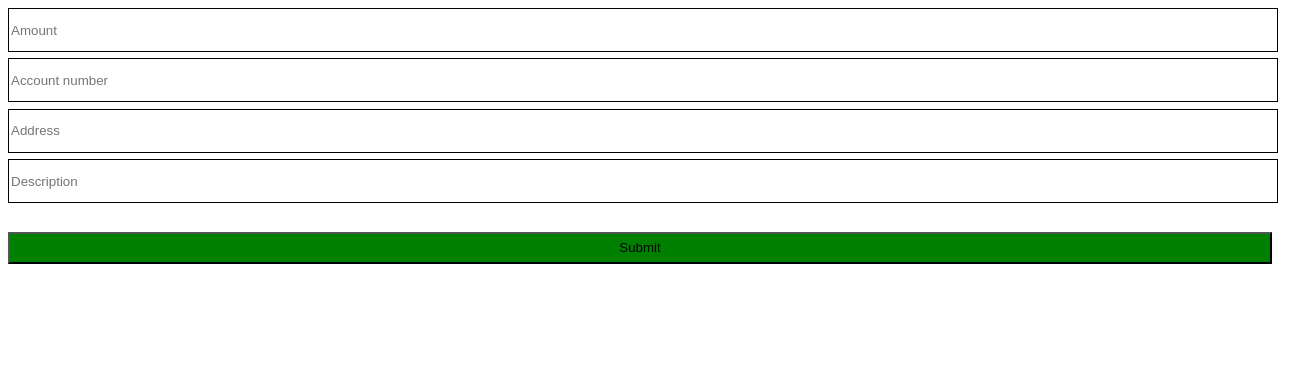
Test case: TransactionForm › if amount field throws an error when amount is negative
Type "-250" into the number field with placeholder "Amount".
click(643, 30); type("-250")  # box [8,8,1278,52]
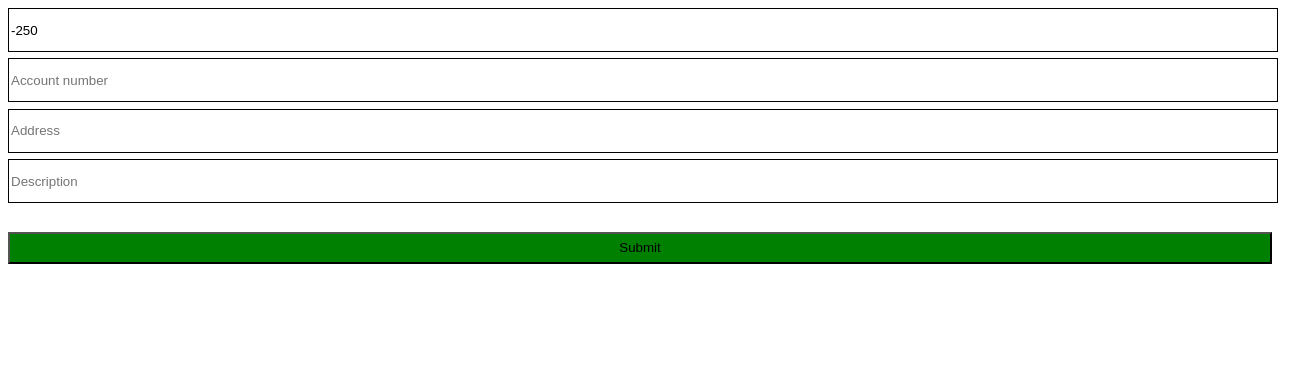
Click the button.
click(640, 248)  # box [8,232,1272,264]
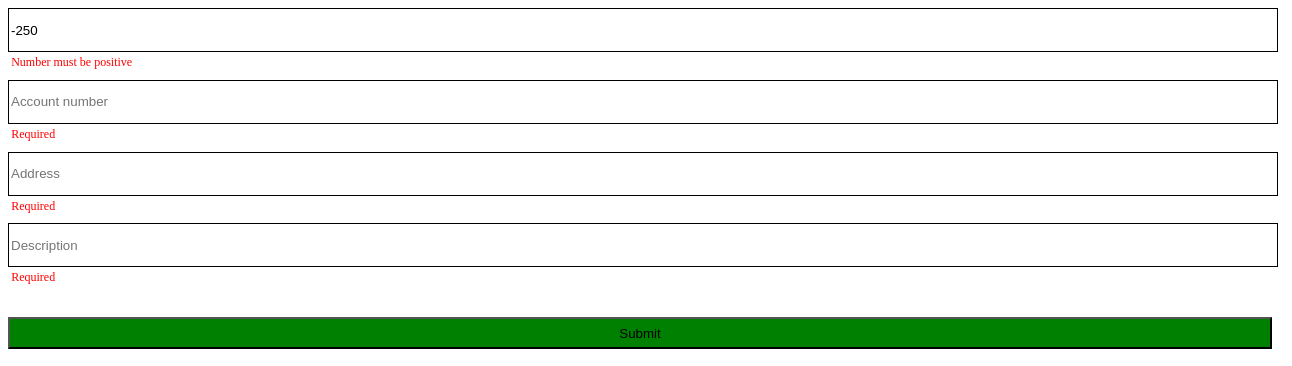
Now the text "Number must be positive" is shown, box [11,55,132,69]
